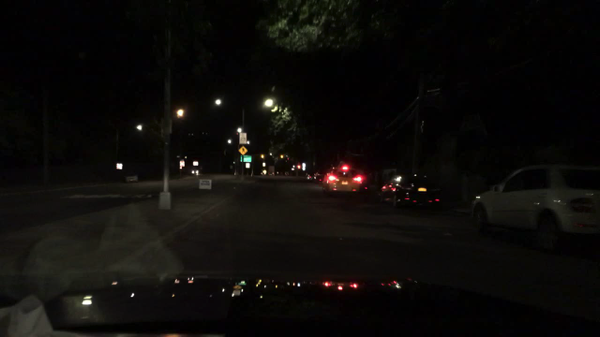car: (469, 163, 598, 250), (377, 171, 444, 216), (322, 161, 368, 198), (303, 171, 323, 184), (124, 171, 139, 183), (283, 169, 292, 176), (191, 169, 200, 174), (260, 170, 267, 176), (269, 171, 275, 177)
traffic light: (296, 164, 302, 170)
traffic sign: (239, 155, 252, 163), (240, 133, 248, 144), (238, 147, 247, 155), (116, 162, 124, 169), (179, 159, 186, 167), (301, 162, 307, 171), (192, 162, 199, 167), (245, 163, 250, 169)
truck: (267, 165, 275, 174)
